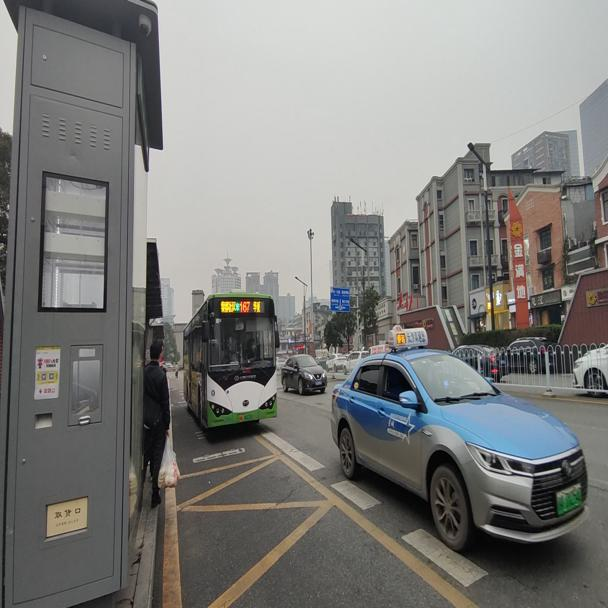bus: (181, 291, 280, 434)
screen: (239, 299, 249, 311)
